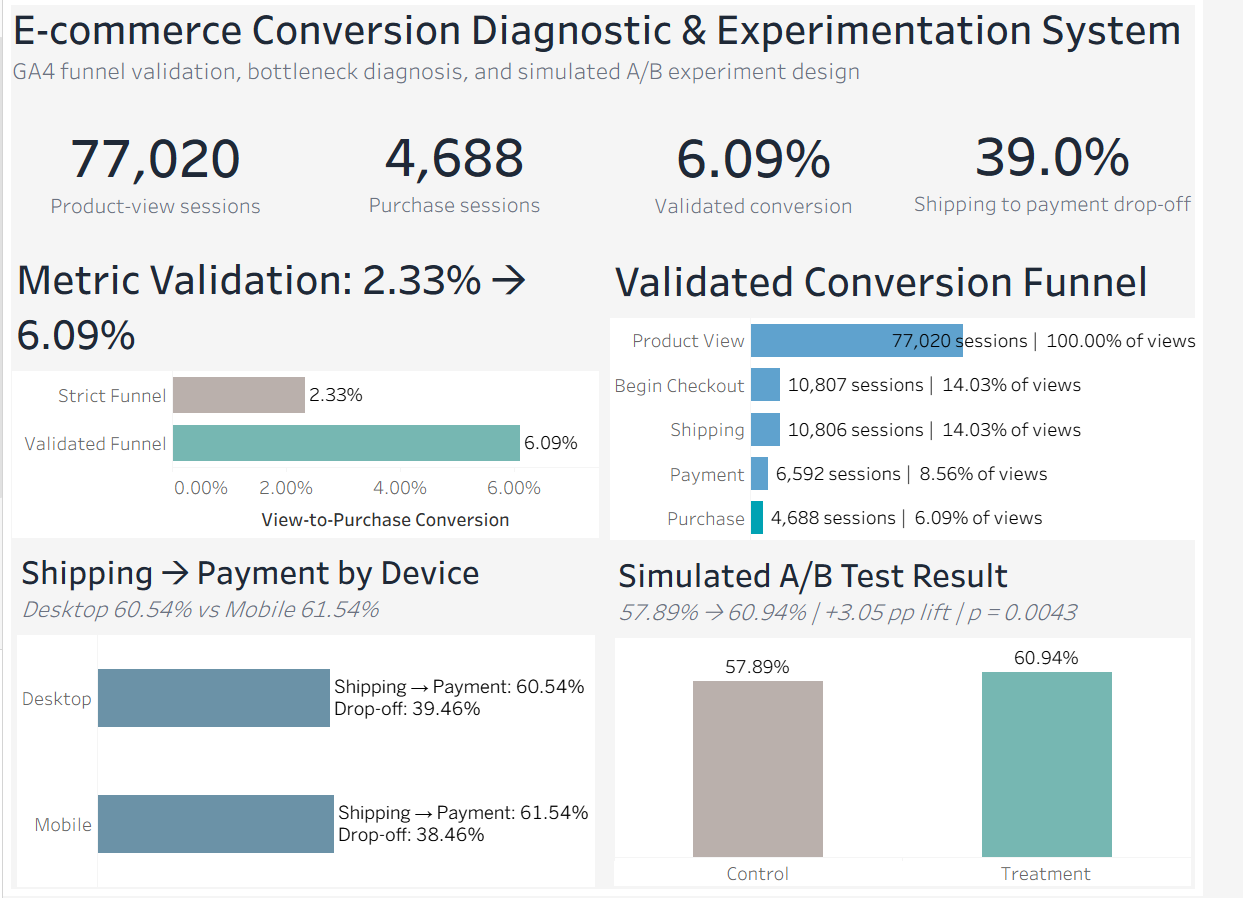

The page's visual inventory and layout, read from the dashboard file:
{"tool":"tableau","page":{"name":"Executive Dashboard","canvas":[1200,900],"ordinal":0},"visuals":[{"type":"text","box":[5,3,1192,100]},{"type":"text","box":[8,8,1184,884]},{"type":"text","box":[902,101,295,140]},{"type":"text","box":[304,102,295,140]},{"type":"text","box":[5,103,295,140]},{"type":"text","box":[603,103,295,139]},{"type":"worksheet","title":"Metric Validation - Dashboard","mark":"Bar","rows":["Funnel Definition"],"cols":["Conversion Pct"],"box":[5,245,595,300]},{"type":"worksheet","title":"Conversion Funnel - Dashboard","mark":"Bar","rows":["Stage"],"cols":["Sessions"],"box":[603,247,595,300]},{"type":"worksheet","title":"Device Bottleneck - Dashboard","mark":"Bar","rows":["Device"],"cols":["Shipping_to_Payment_pct"],"box":[10,544,586,350]},{"type":"worksheet","title":"A/B Experiment - Dashboard","mark":"Bar","rows":["Shipping_to_Payment_pct"],"cols":["Group"],"box":[607,547,585,346]}]}

Visuals, with their boxes in screenshot pixels (x1, y1, x2, y2):
text: pyautogui.locateOnScreen(108, 39, 1242, 137)
text: pyautogui.locateOnScreen(111, 43, 1242, 897)
text: pyautogui.locateOnScreen(990, 135, 1242, 272)
text: pyautogui.locateOnScreen(402, 136, 692, 273)
text: pyautogui.locateOnScreen(108, 137, 398, 274)
text: pyautogui.locateOnScreen(696, 137, 986, 273)
"Metric Validation - Dashboard" worksheet (Bar marks): pyautogui.locateOnScreen(108, 276, 693, 571)
"Conversion Funnel - Dashboard" worksheet (Bar marks): pyautogui.locateOnScreen(696, 278, 1242, 573)
"Device Bottleneck - Dashboard" worksheet (Bar marks): pyautogui.locateOnScreen(113, 570, 689, 897)
"A/B Experiment - Dashboard" worksheet (Bar marks): pyautogui.locateOnScreen(700, 573, 1242, 897)
